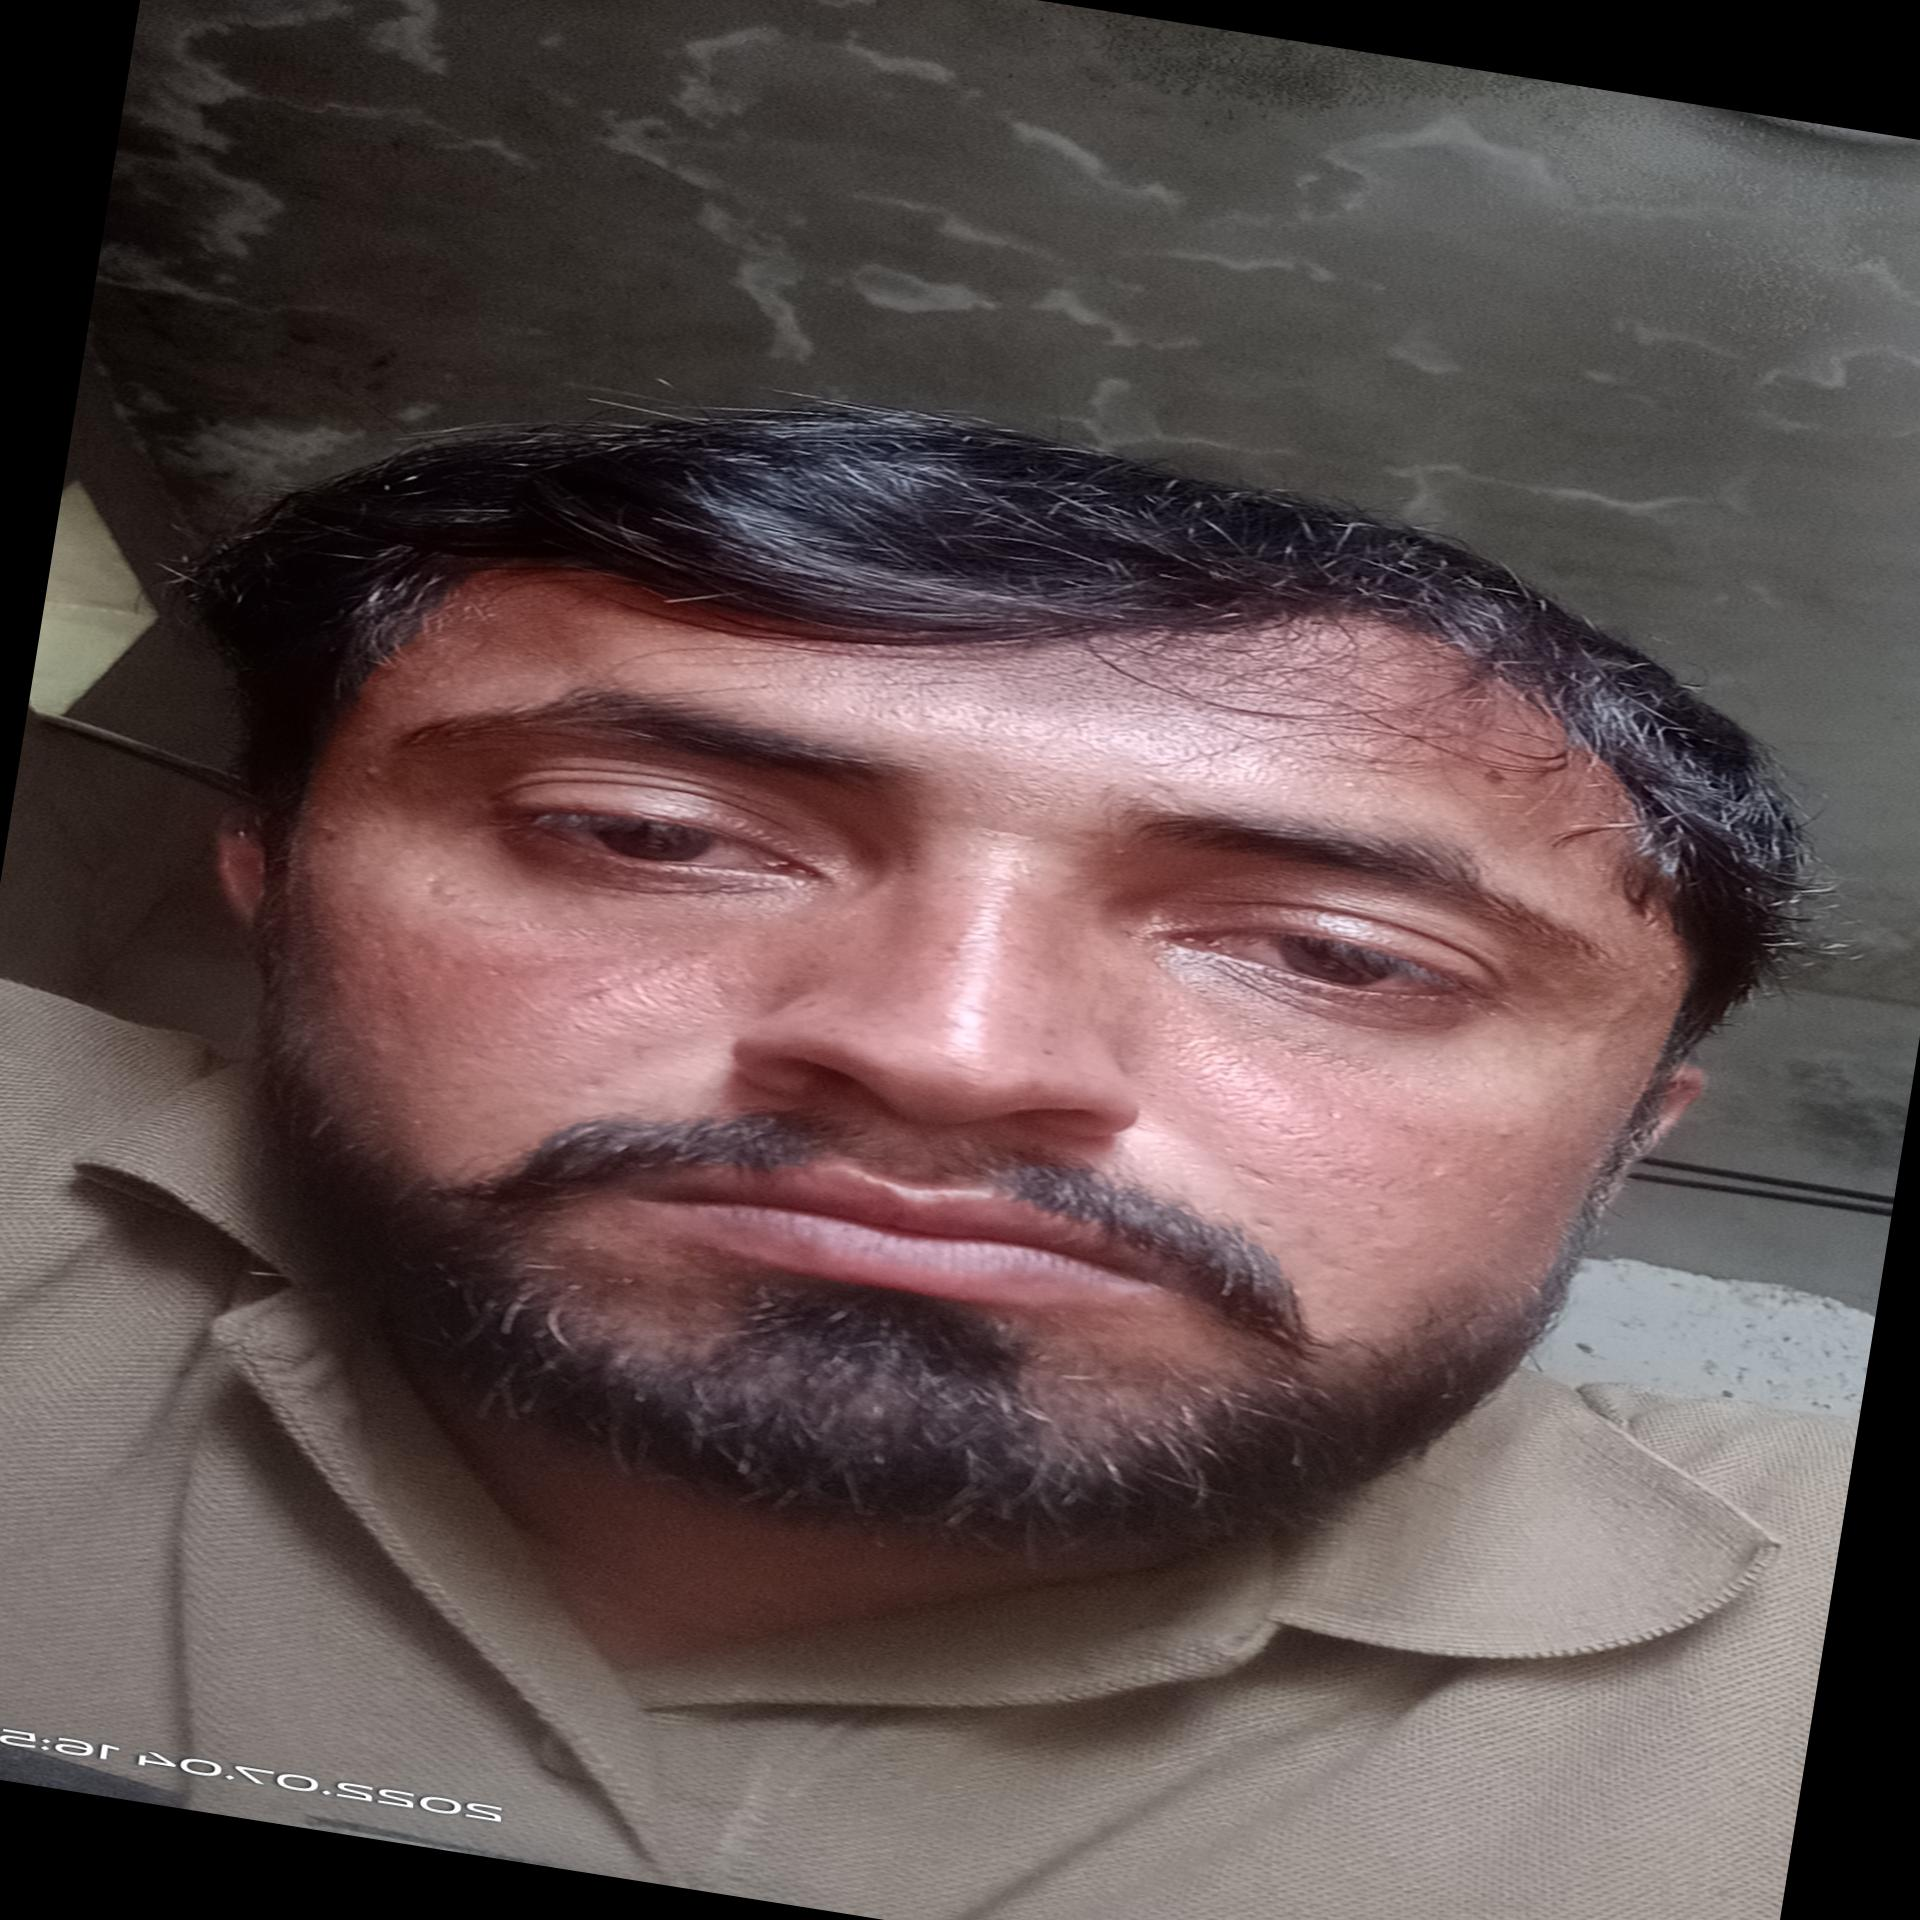Acne: (302, 816, 350, 853), (1329, 774, 1371, 796), (1655, 955, 1688, 979), (353, 761, 383, 782), (390, 988, 415, 1006)
Englarged Pores: (1139, 1016, 1384, 1187), (538, 923, 761, 1074)
Wrinkles: (944, 816, 1062, 847)
